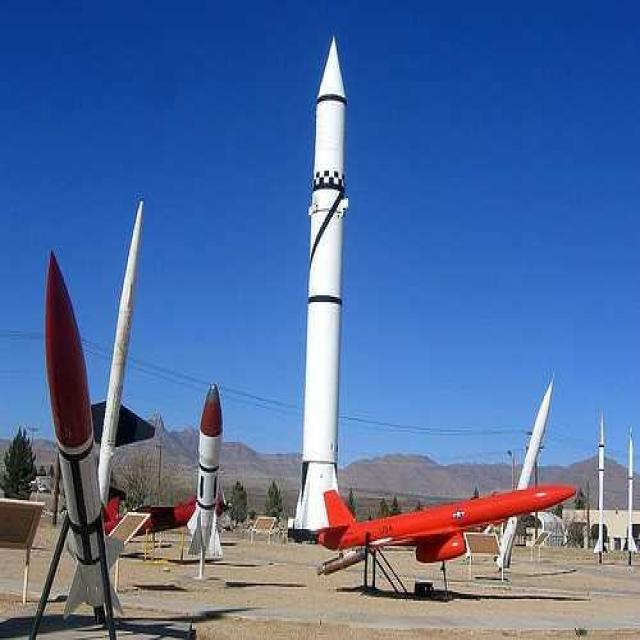missile: (285, 37, 355, 545), (39, 250, 122, 626), (306, 478, 579, 570), (92, 197, 148, 516), (496, 368, 558, 576), (185, 380, 228, 563), (593, 408, 607, 556), (623, 422, 637, 561)
